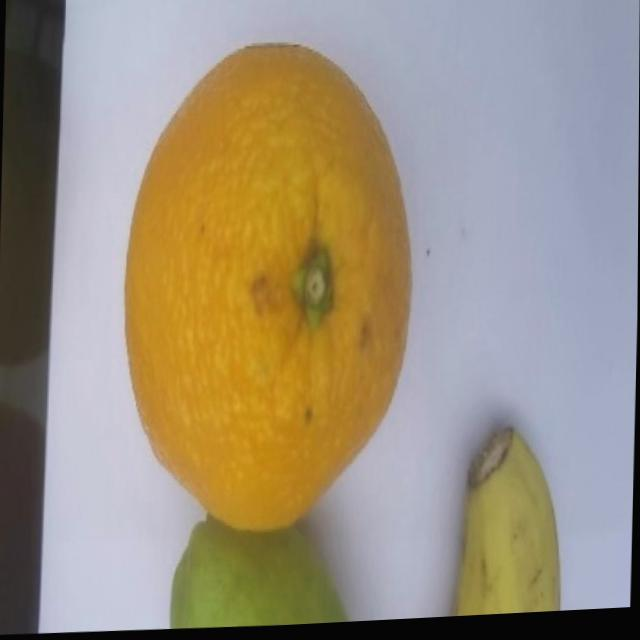Banana: (453, 427, 566, 621)
Orange: (118, 35, 420, 544)
